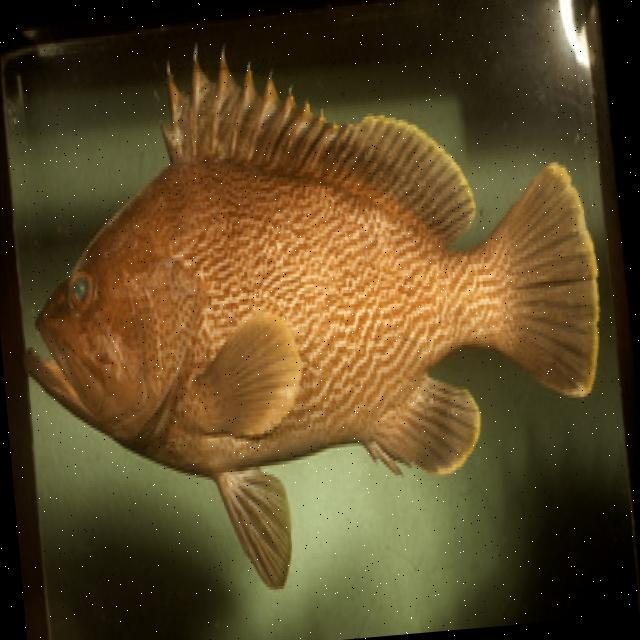ikan: (0, 6, 623, 609)
